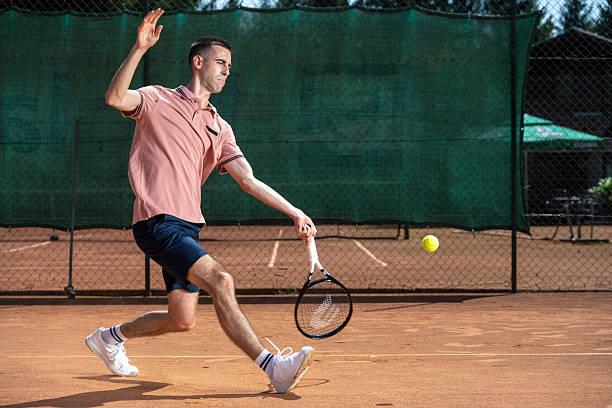ball_tennis: (421, 234, 439, 254)
